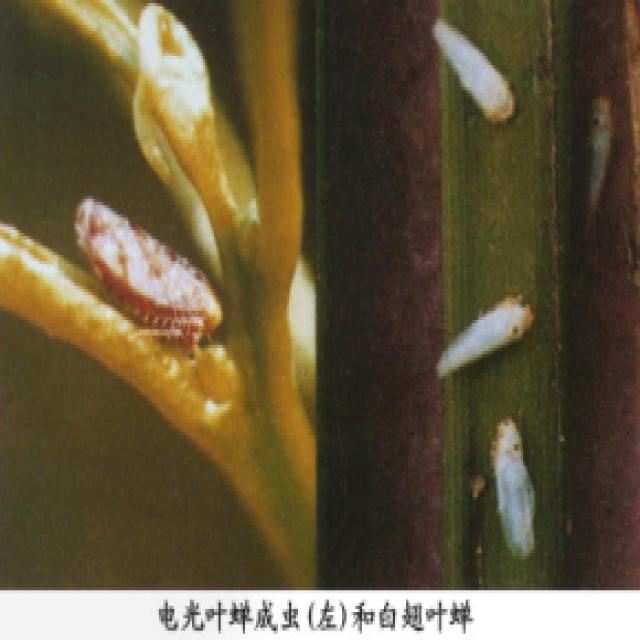Yechan: (428, 292, 543, 388), (423, 12, 522, 123), (482, 417, 546, 558)
